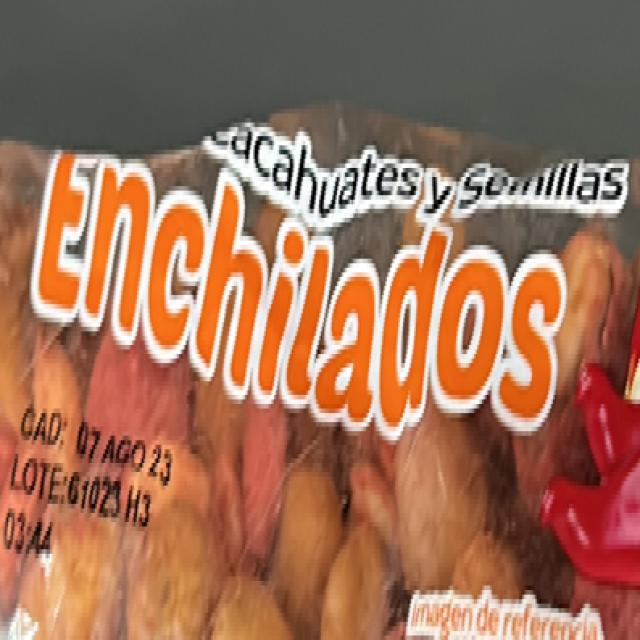bitzEnchilado95: (3, 135, 634, 640)
